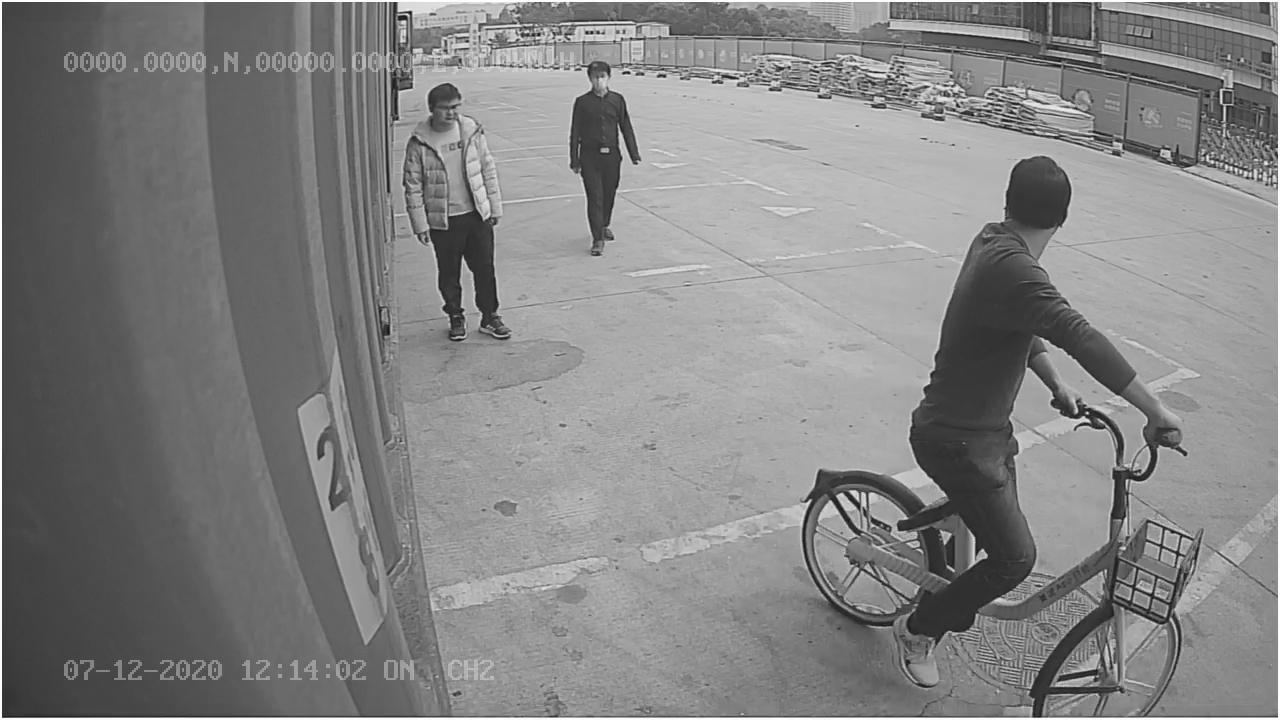person: (404, 84, 518, 341), (557, 54, 657, 262)
